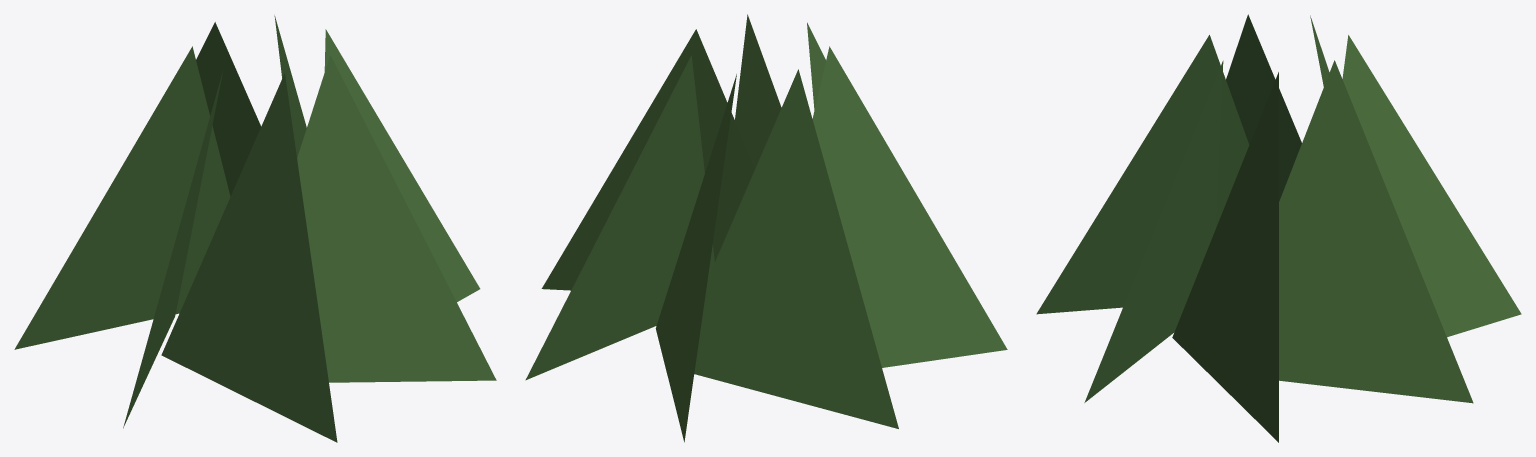
Rendered from grass_clump.glb.
3 views of the same model, side by side, from view 1: azimuth 30°, elevation 25°; view 2: azimuth 150°, elevation 25°; view 3: azimuth 270°, elevation 25° (orthographic).
Visible parts, largest first — view 1: grass_clump; view 2: grass_clump; view 3: grass_clump.
Part boxes in pixels (box(x1,y1,x2,y2)): grass_clump: box(14, 15, 496, 442); grass_clump: box(525, 14, 1007, 442); grass_clump: box(1036, 14, 1521, 442).
Size of the model in its own units: 0.6653 by 0.46 by 0.6824.
